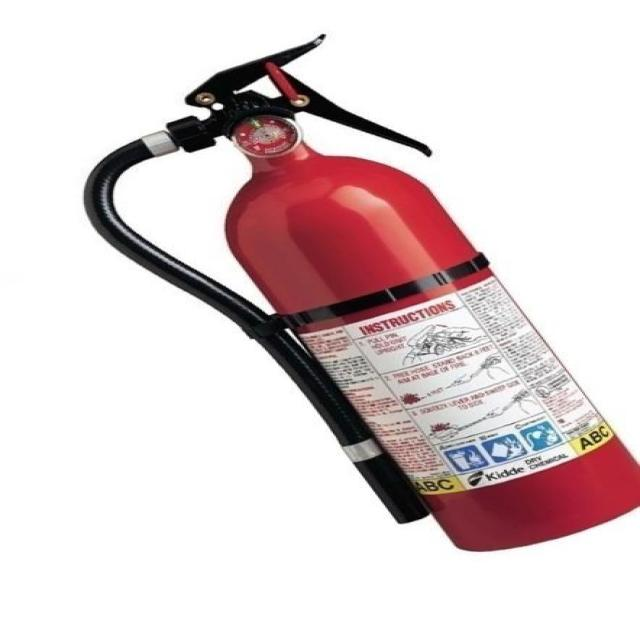fire_extinguisher: (70, 27, 638, 558)
